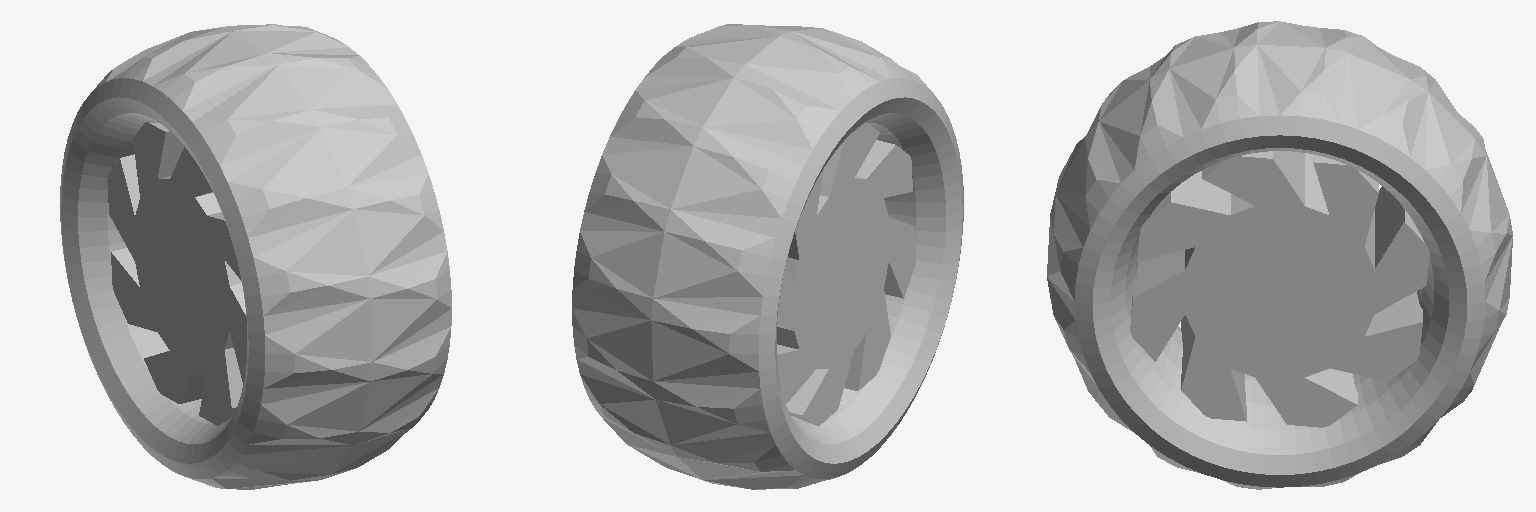
File: Turbinator_2_Wheel.obj
The picture shows the model from 3 angles: view 1: azimuth 30°, elevation 25°; view 2: azimuth 150°, elevation 25°; view 3: azimuth 270°, elevation 25°; orthographic projection.
Visible parts, largest first — view 1: Cylinder_Cylinder.001, Cylinder; view 2: Cylinder_Cylinder.001, Cylinder; view 3: Cylinder_Cylinder.001, Cylinder.
Part boxes in pixels (x1,y1,x2,y2): Cylinder_Cylinder.001: (60, 24, 451, 489); Cylinder: (107, 122, 246, 425); Cylinder_Cylinder.001: (572, 24, 963, 489); Cylinder: (664, 122, 916, 425); Cylinder_Cylinder.001: (1047, 21, 1512, 489); Cylinder: (1130, 151, 1429, 427).
Bounding box in the file's own units: 1 × 2 × 2.